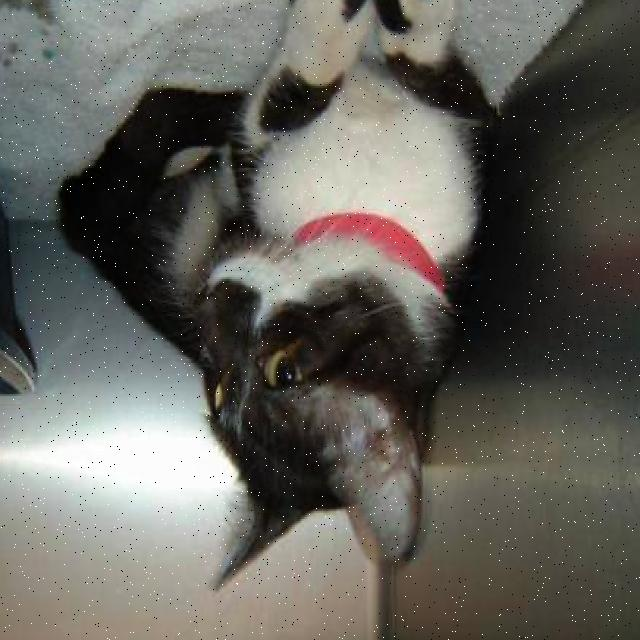Cat: (189, 242, 430, 605)
